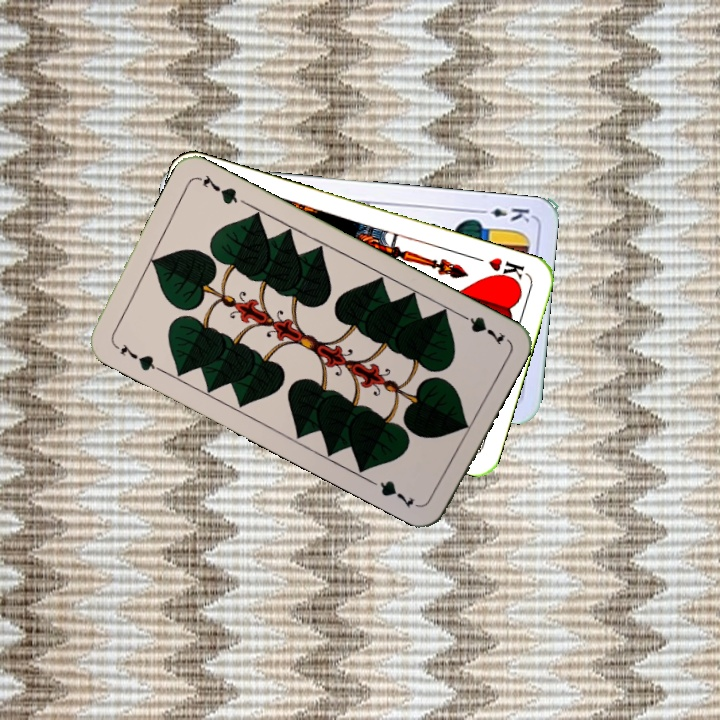EK: (473, 203, 532, 225)
G7: (453, 308, 508, 348), (109, 339, 164, 374)
HK: (471, 253, 529, 287)
